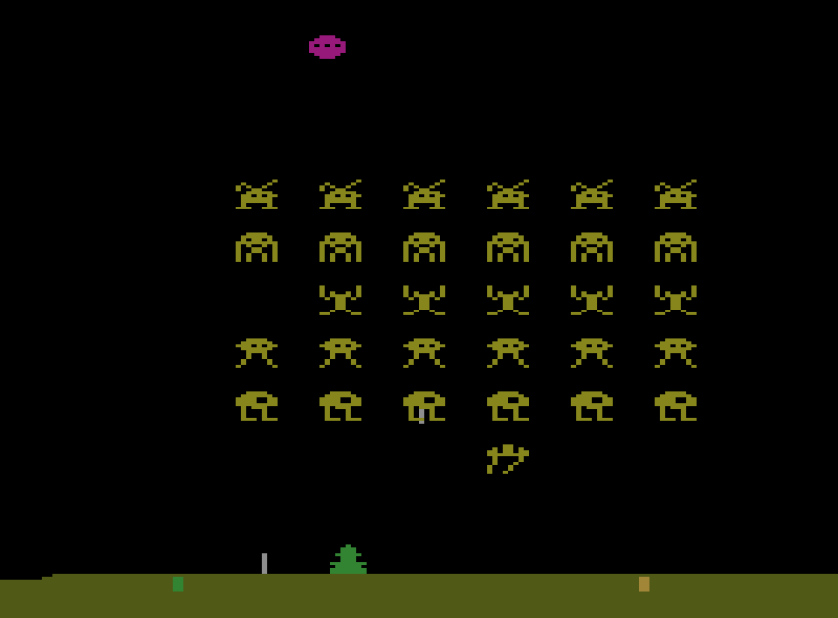bonus: (308, 33, 347, 62)
bullet: (260, 550, 269, 574)
invader1: (234, 175, 279, 212), (485, 176, 532, 211), (319, 175, 363, 212), (402, 177, 447, 212), (569, 177, 615, 210), (652, 178, 698, 210)
invader2: (318, 229, 363, 265), (233, 230, 280, 264), (485, 229, 530, 264), (569, 230, 615, 264), (402, 230, 447, 264), (653, 230, 698, 264)
invader3: (485, 283, 531, 317), (654, 284, 699, 317), (402, 284, 448, 316), (319, 284, 364, 316), (570, 284, 615, 316)
invader4: (319, 334, 364, 370), (403, 334, 447, 370), (235, 335, 280, 370), (570, 336, 615, 370), (655, 335, 699, 369), (487, 337, 530, 369)
invader5: (318, 388, 364, 423), (402, 388, 447, 422), (234, 389, 280, 422), (569, 389, 614, 422), (654, 389, 699, 422), (487, 389, 530, 422)
invader6: (484, 441, 530, 476)
player: (329, 542, 369, 575)
